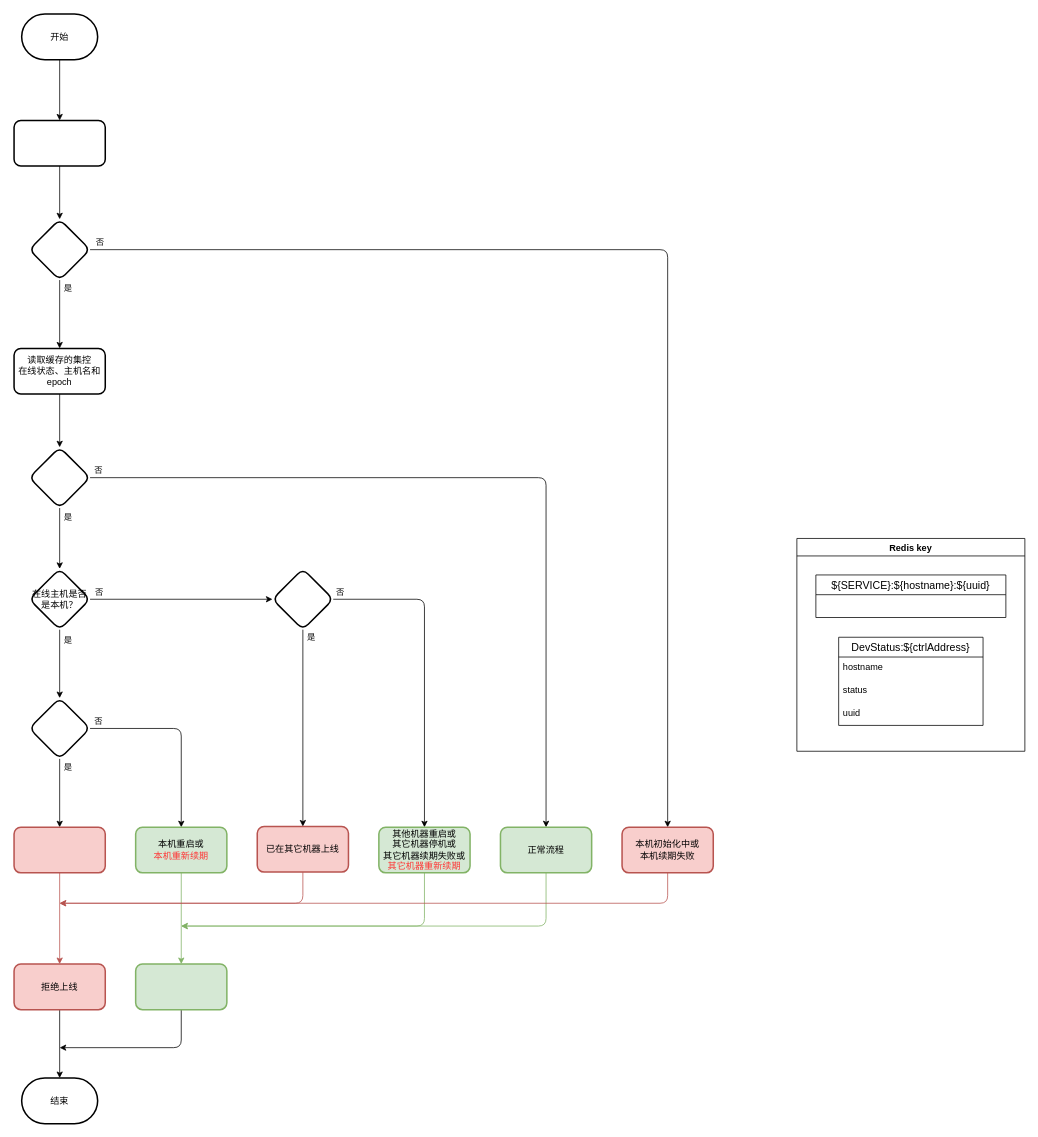
Image size: 1038x1137. Some labels were removed from this diagram. The shapes that lost their labels are listed below. From the top down, each one's centre as x and y in pixels, then its label:
At (x=59, y=142): "集控连接当前主机 请求登陆".
At (x=59, y=249): "当前主机是否存活？".
At (x=59, y=477): "集控是否在线？".
At (x=302, y=599): "在线主机是否存活？".
At (x=59, y=728): "当前epoch与缓存epoch是否一致？".
At (x=59, y=849): "已在本机上线".
At (x=181, y=986): "允许上线".
